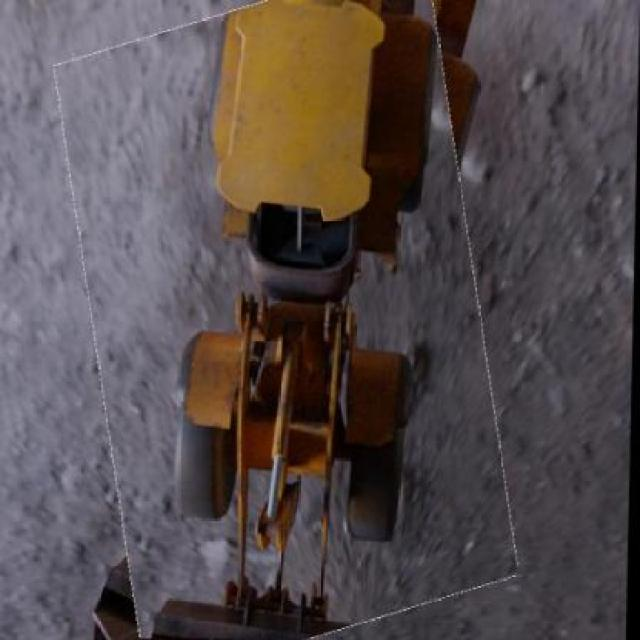buldozerpayloadergrader: (153, 1, 436, 640)
